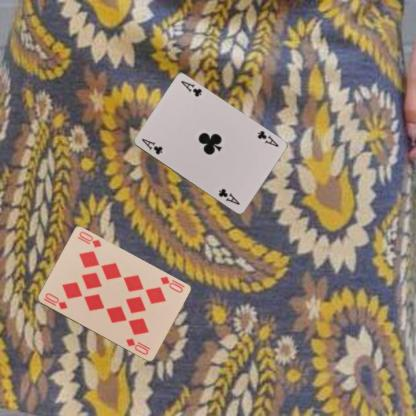10d: (42, 290, 69, 310), (157, 274, 184, 294)
Ac: (138, 136, 164, 156), (254, 128, 280, 148)
